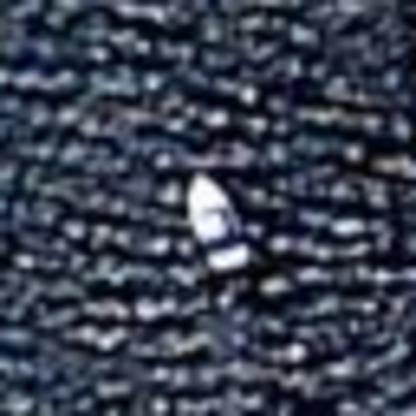ship: (179, 164, 257, 280)
